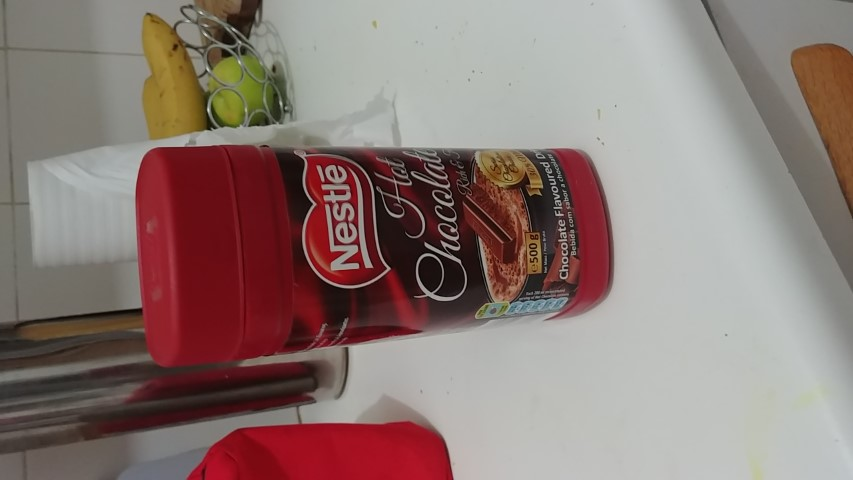Marker: (132, 145, 614, 369)
